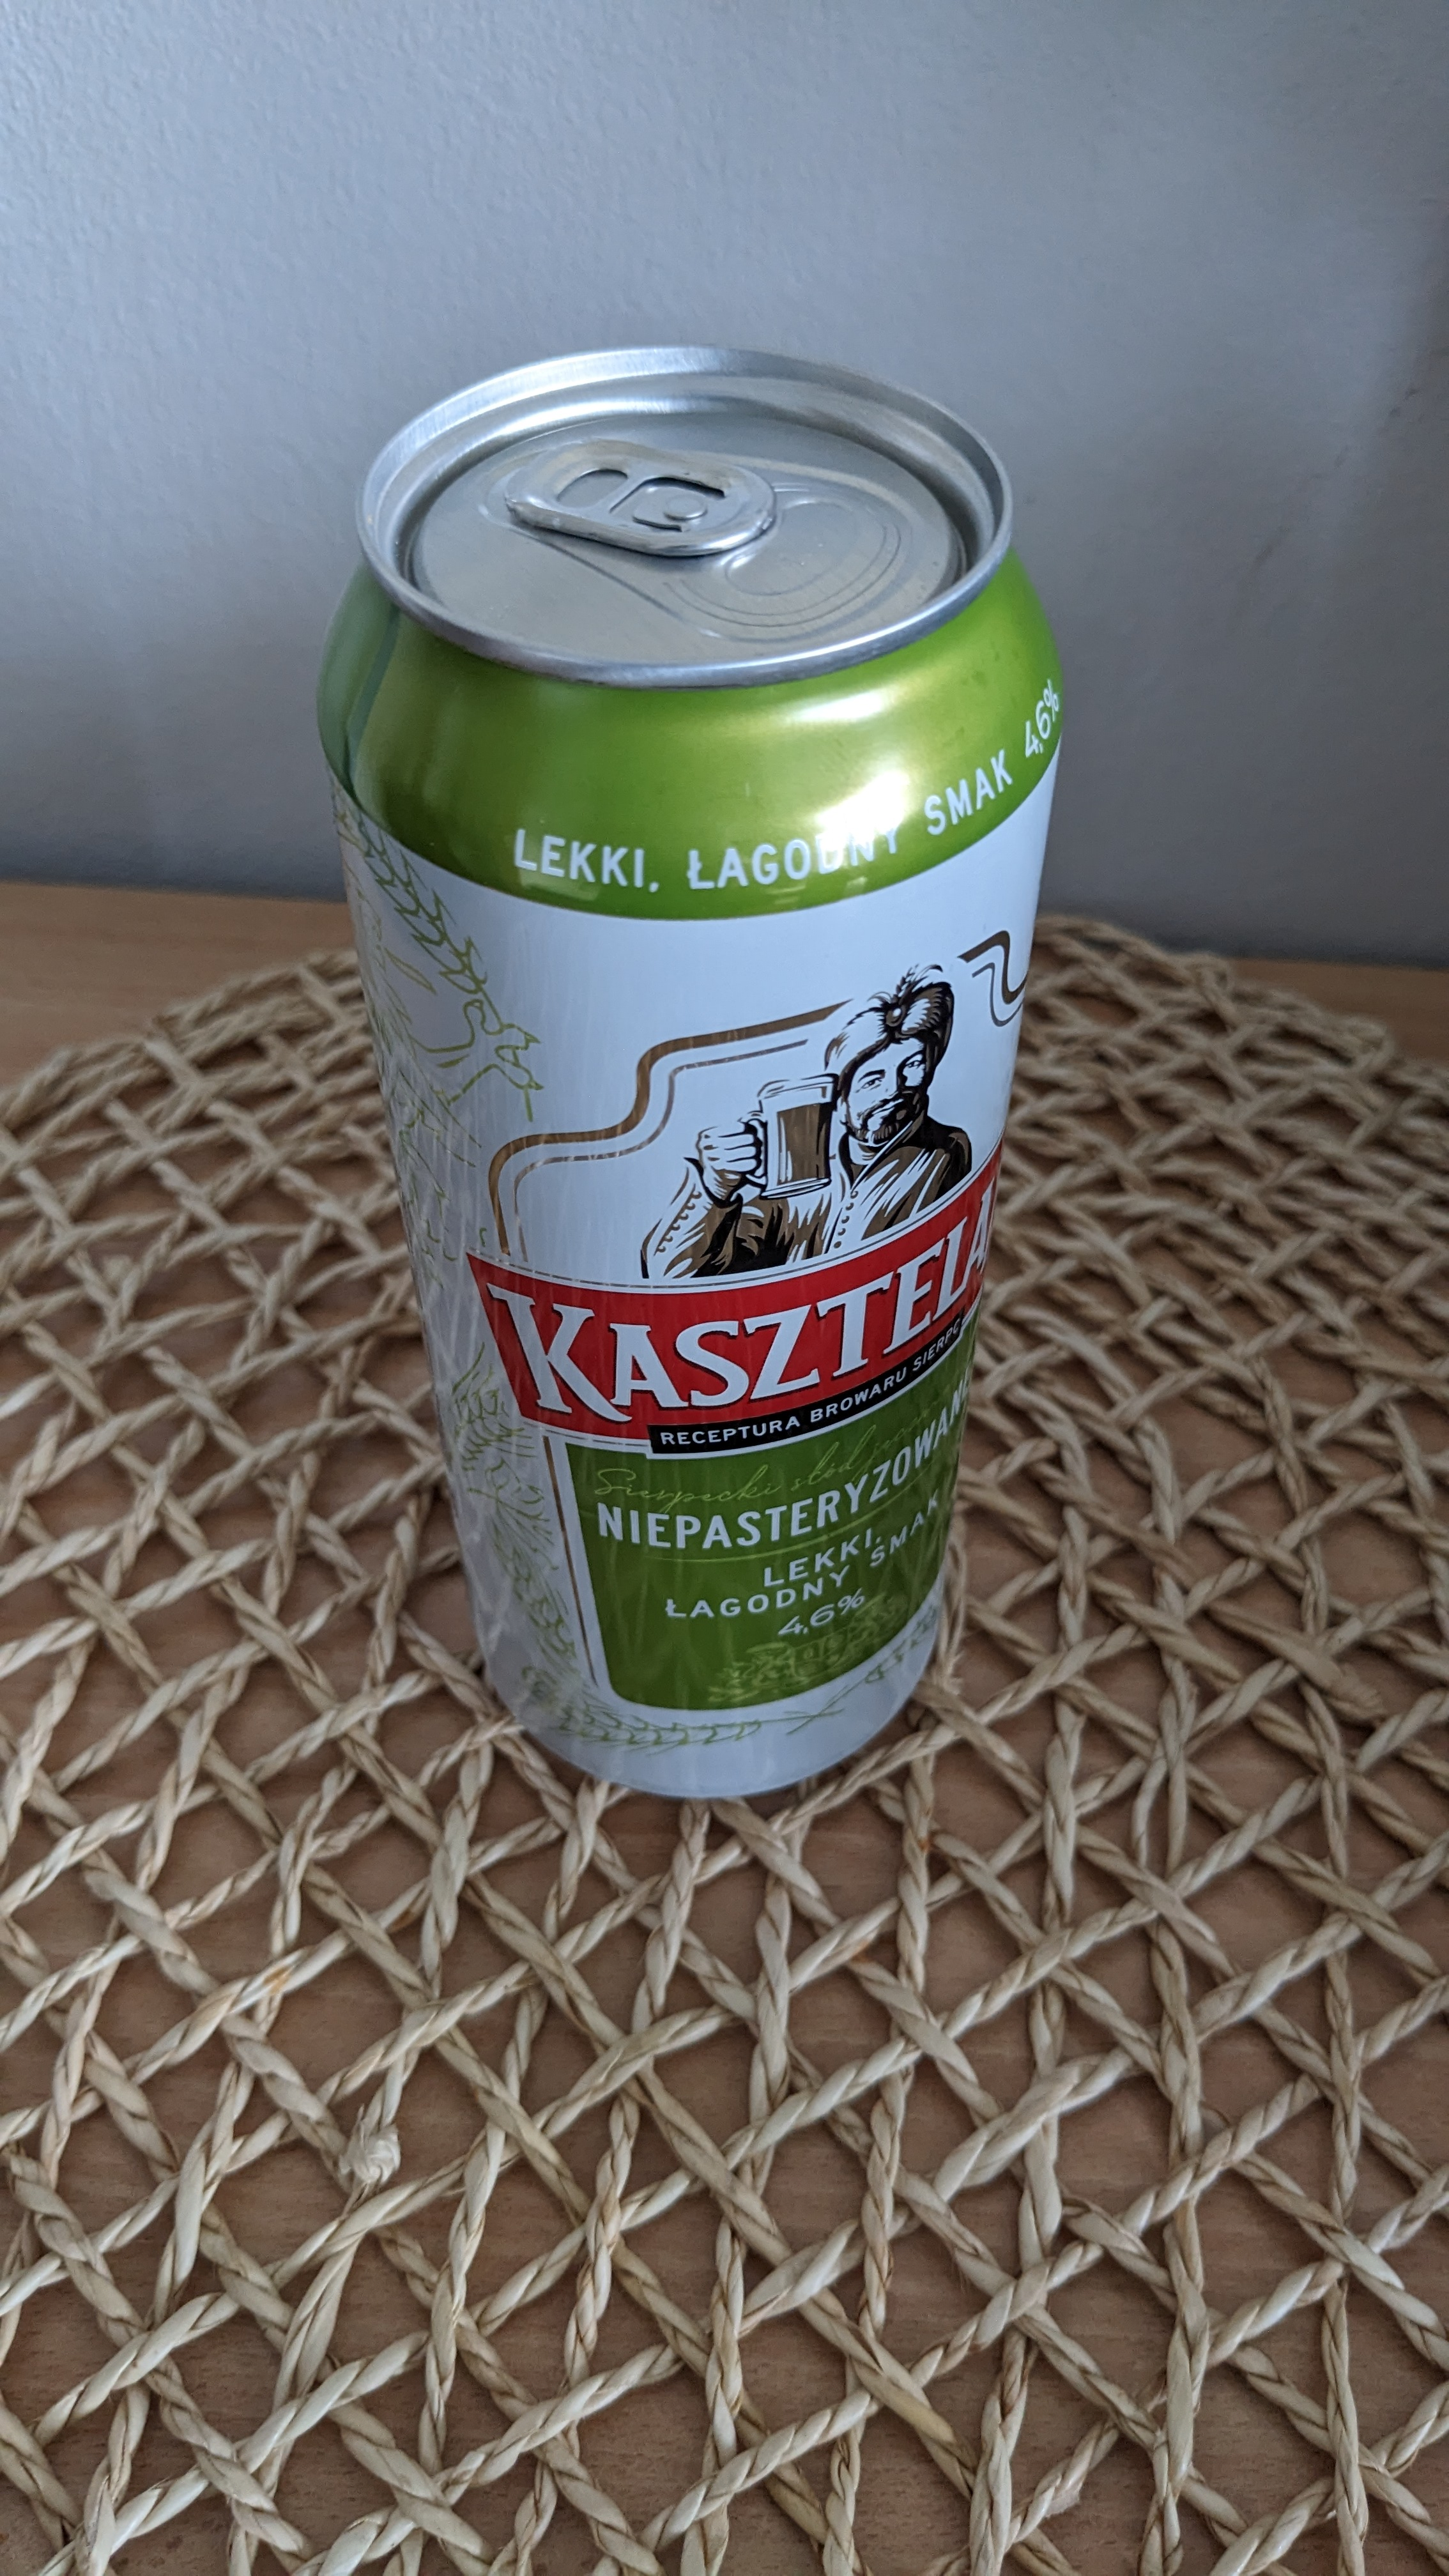kasztelan: (324, 338, 1044, 1856)
